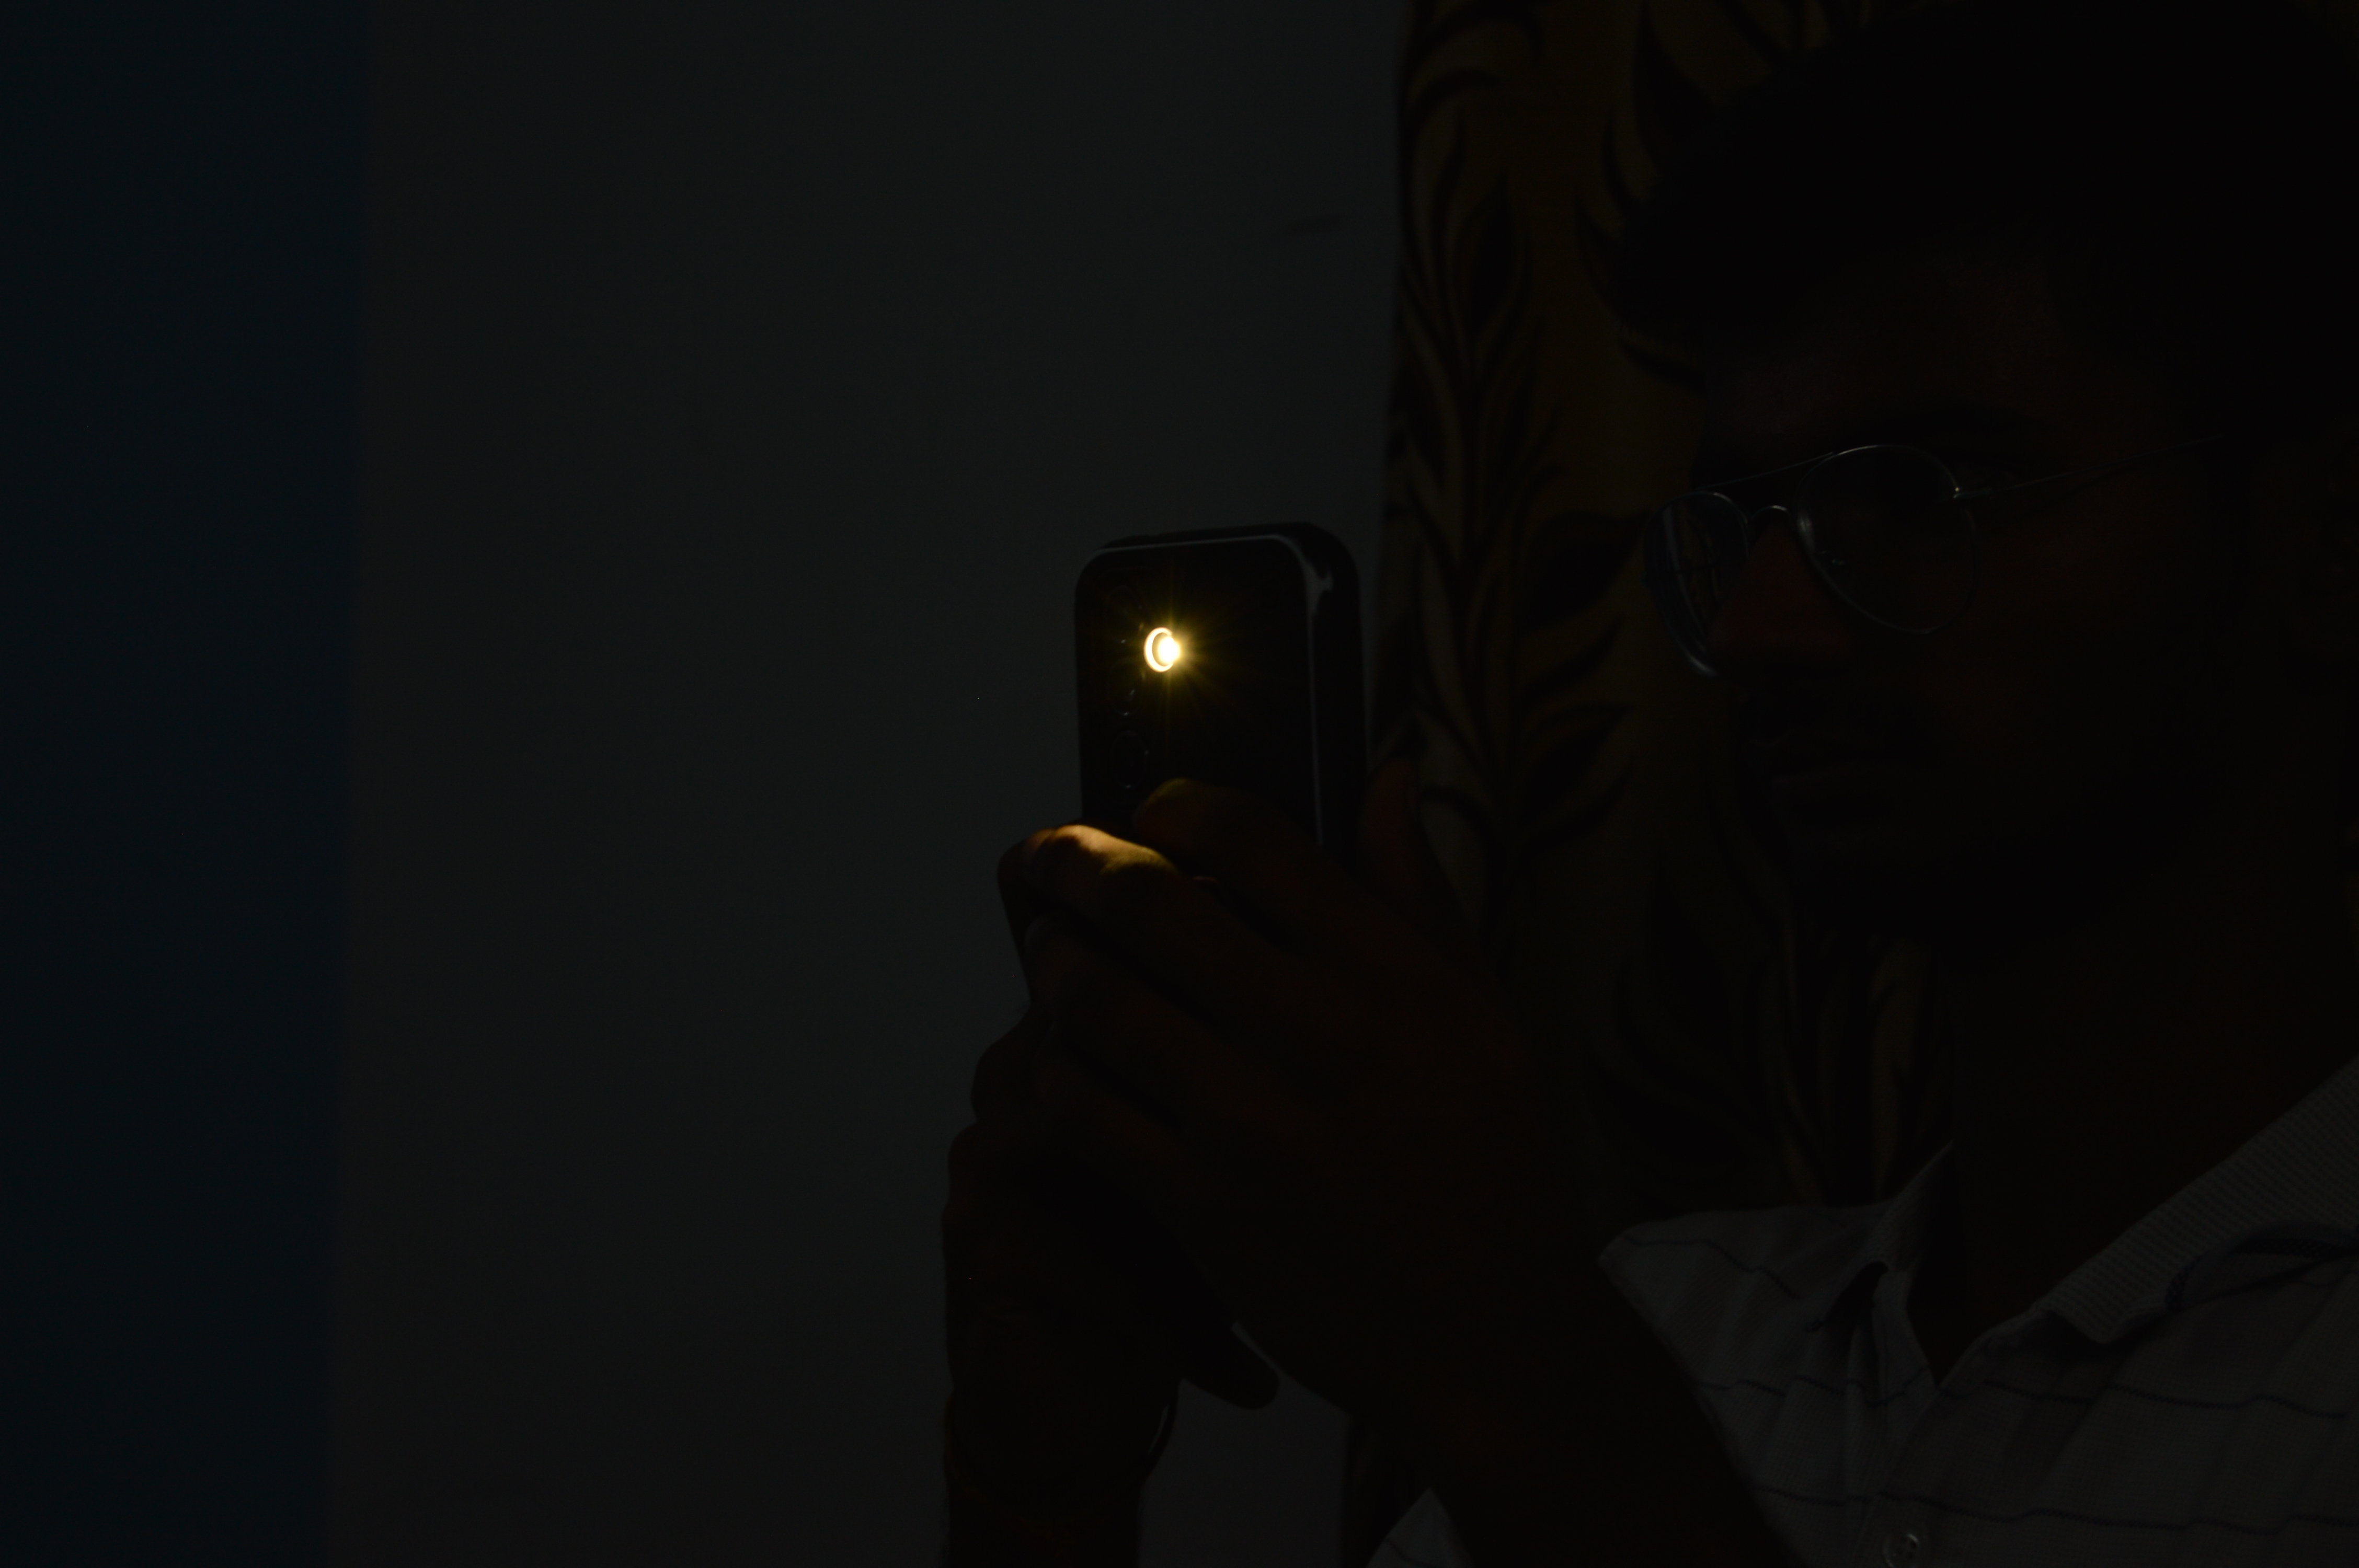Glare: (1146, 626, 1179, 663)
